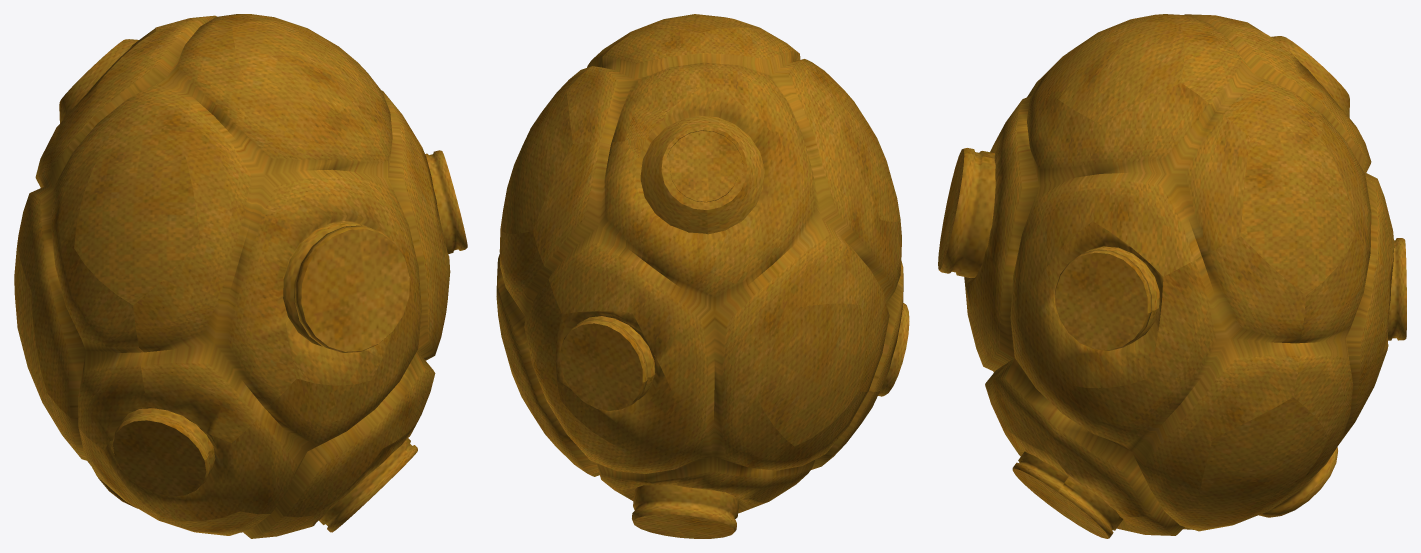
Rendered from stareggroadeggplanetc.dae.
The picture shows the model from 3 angles, left to right: view 1: azimuth 30°, elevation 25°; view 2: azimuth 150°, elevation 25°; view 3: azimuth 270°, elevation 25°; orthographic projection. The views are drawn at different scales.
Visible parts, largest first — view 1: n0b1, n1b0; view 2: n0b1, n1b0; view 3: n0b1, n1b0.
Part boxes in pixels (<box>): n0b1: <box>14,14,450,538</box>; n1b0: <box>59,39,467,532</box>; n0b1: <box>496,14,903,513</box>; n1b0: <box>560,115,909,538</box>; n0b1: <box>964,14,1394,535</box>; n1b0: <box>938,36,1406,538</box>.
Bounding box in the file's own units: 2137 × 2645 × 2254.
